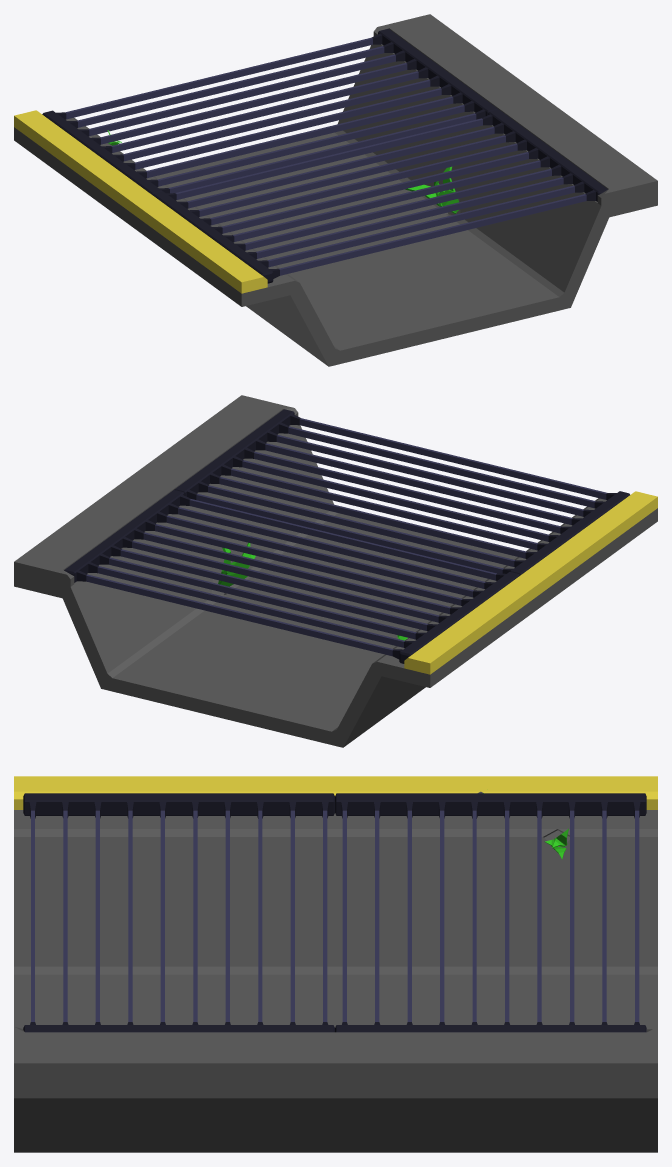
Rendered from ModuloRejas.001.glb.
3 views of the same model, one above another, from view 1: azimuth 30°, elevation 25°; view 2: azimuth 150°, elevation 25°; view 3: azimuth 270°, elevation 25° (orthographic). The views are drawn at different scales.
Visible parts, largest first — view 1: ModuloRejas.001; view 2: ModuloRejas.001; view 3: ModuloRejas.001.
Part boxes in pixels (<box>): ModuloRejas.001: <box>14,14,657,366</box>; ModuloRejas.001: <box>14,395,657,747</box>; ModuloRejas.001: <box>14,776,657,1152</box>.
Bounding box in the file's own units: 32.52 × 7.9 × 30.82.
